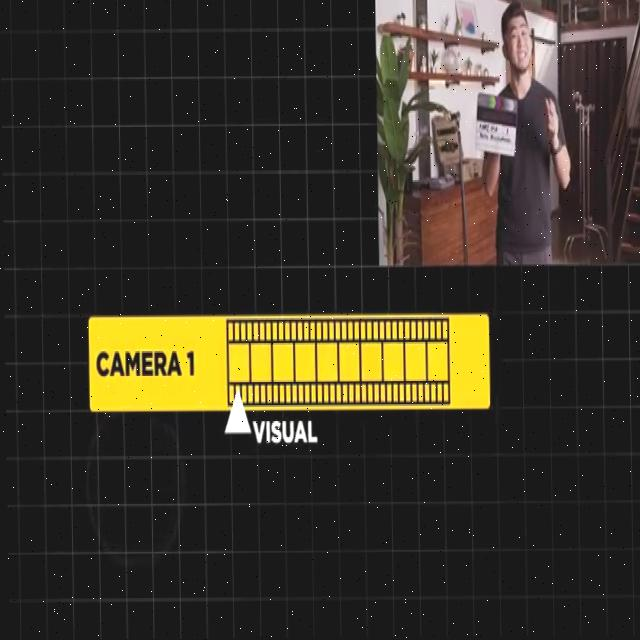Clapperboard: (474, 92, 518, 156)
